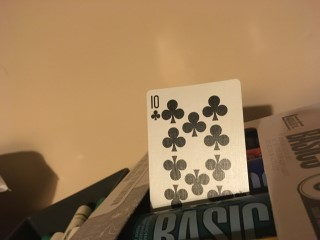TenOfClubs: (145, 79, 249, 211)
